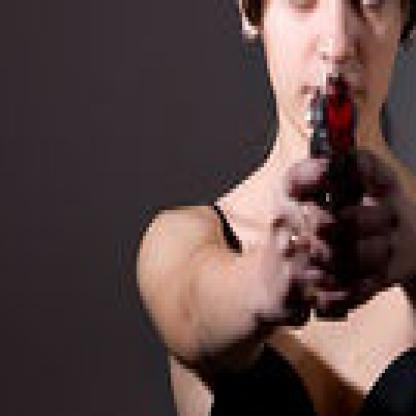gun: (304, 69, 360, 296)
